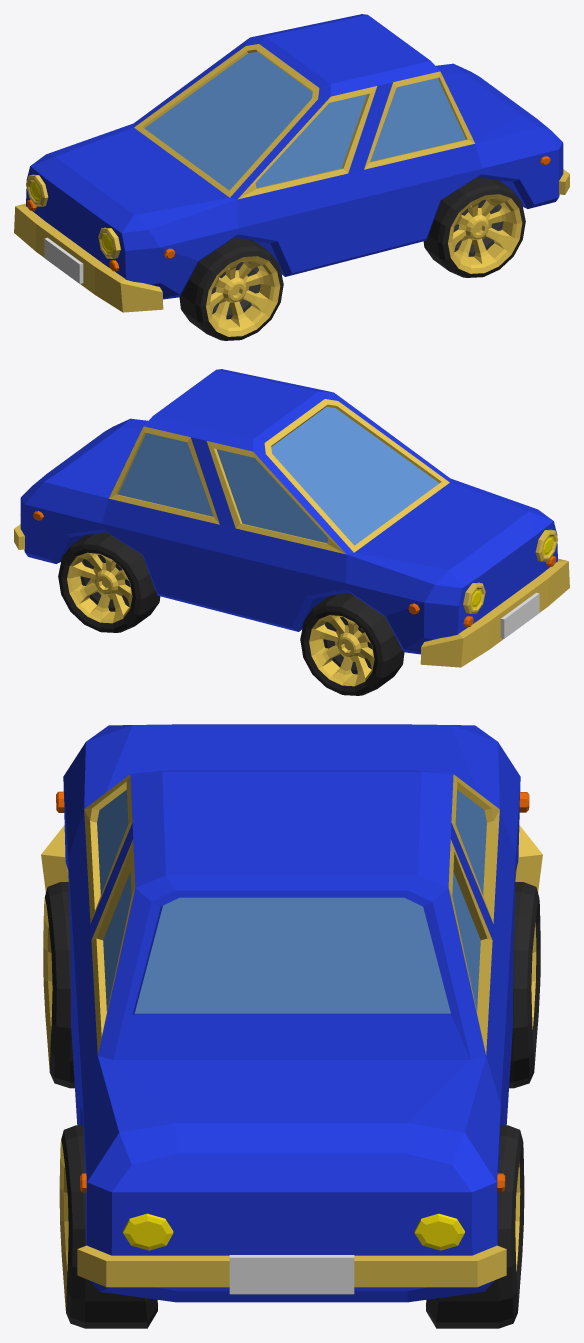
The model's file is Car_Custom.fbx.
The picture shows the model from 3 angles, top to bottom: view 1: azimuth 30°, elevation 25°; view 2: azimuth 150°, elevation 25°; view 3: azimuth 270°, elevation 25°; orthographic projection. The views are drawn at different scales.
Parts seen in each view (by area): view 1: Car_Custom; view 2: Car_Custom; view 3: Car_Custom.
Boxes of the visible parts, <box> form: Car_Custom: <box>14,14,569,340</box>; Car_Custom: <box>14,369,569,695</box>; Car_Custom: <box>41,724,542,1328</box>.
Size of the model in its own units: 8.98 by 3.88 by 4.2.
